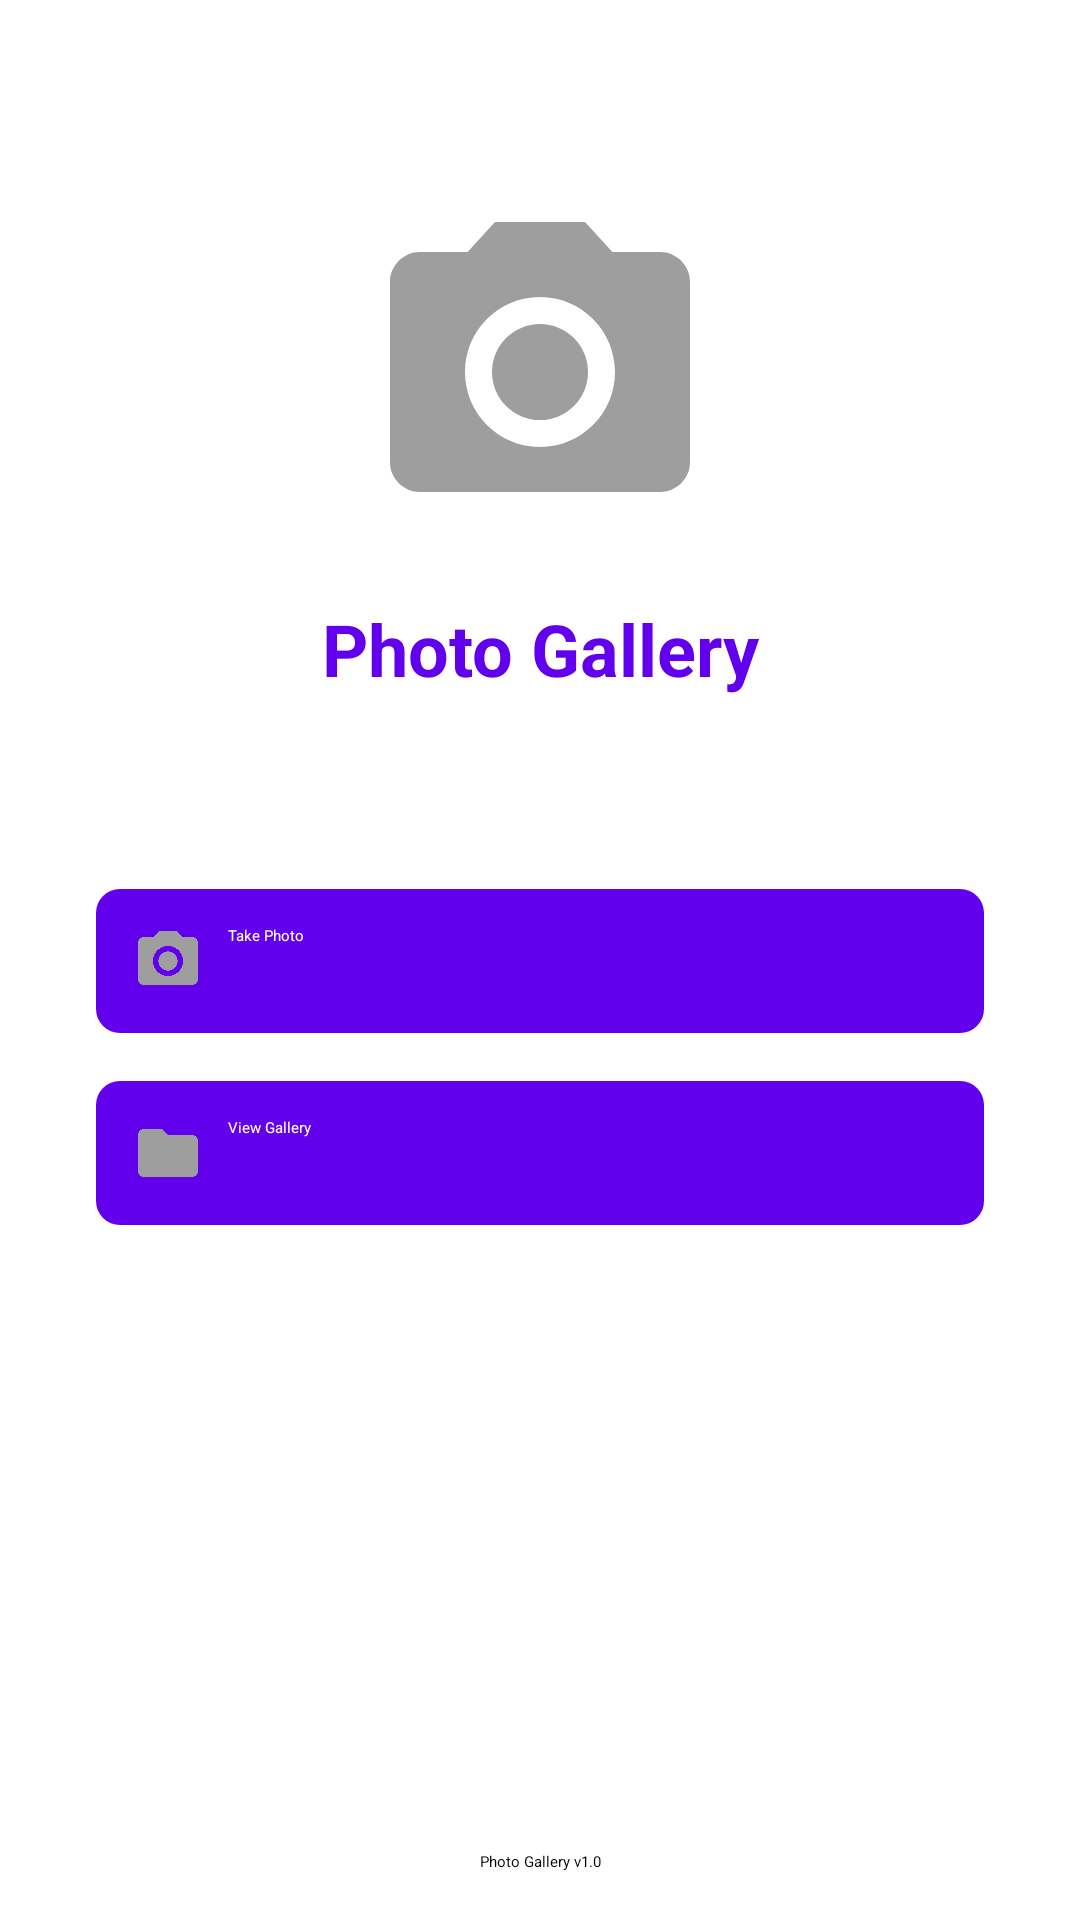

Where to tap for icons on this 1080 × 1920 app screen, as [x,y]:
camera: [540,357]
